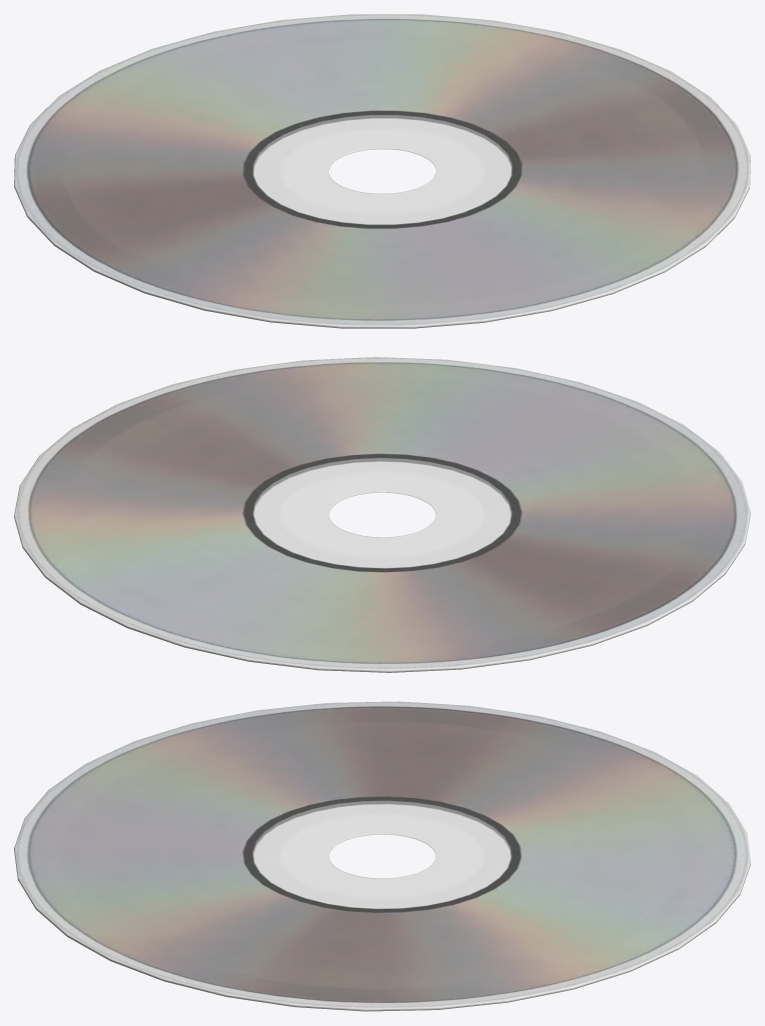
The picture shows the model from 3 angles, top to bottom: view 1: azimuth 30°, elevation 25°; view 2: azimuth 150°, elevation 25°; view 3: azimuth 270°, elevation 25°; orthographic projection.
Parts seen in each view (by area): view 1: cd; view 2: cd; view 3: cd.
Part boxes in pixels (x1=…): cd: x1=14, y1=14, x2=750, y2=328; cd: x1=14, y1=357, x2=750, y2=672; cd: x1=14, y1=701, x2=750, y2=1011.
Size of the model in its own units: 0.107 by 0.00113 by 0.107.
Materials: 1 (1 with a texture image).
